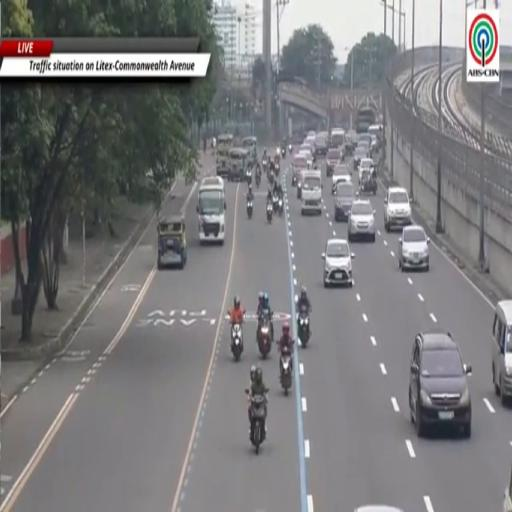bus: (197, 179, 226, 244), (356, 108, 376, 133)
car: (409, 330, 471, 438), (322, 238, 354, 287), (398, 224, 429, 271), (384, 187, 412, 232), (348, 200, 375, 242), (334, 182, 356, 221), (332, 165, 351, 195), (200, 176, 225, 194), (326, 149, 341, 177), (358, 158, 374, 184), (353, 148, 369, 170), (504, 469, 511, 511), (355, 505, 404, 511), (298, 149, 314, 167), (315, 134, 328, 156), (307, 131, 315, 138)
jeepney: (216, 134, 233, 177)
motorcycle: (245, 390, 267, 454), (256, 316, 272, 359), (280, 349, 292, 395), (297, 306, 310, 348), (231, 324, 243, 361), (267, 202, 273, 223), (247, 200, 253, 219), (273, 195, 279, 213), (246, 169, 252, 184), (297, 181, 302, 199), (268, 170, 274, 185), (278, 198, 283, 216), (255, 170, 260, 187), (274, 164, 280, 177), (262, 158, 267, 171), (281, 146, 286, 158), (292, 172, 296, 186), (289, 144, 292, 154)
